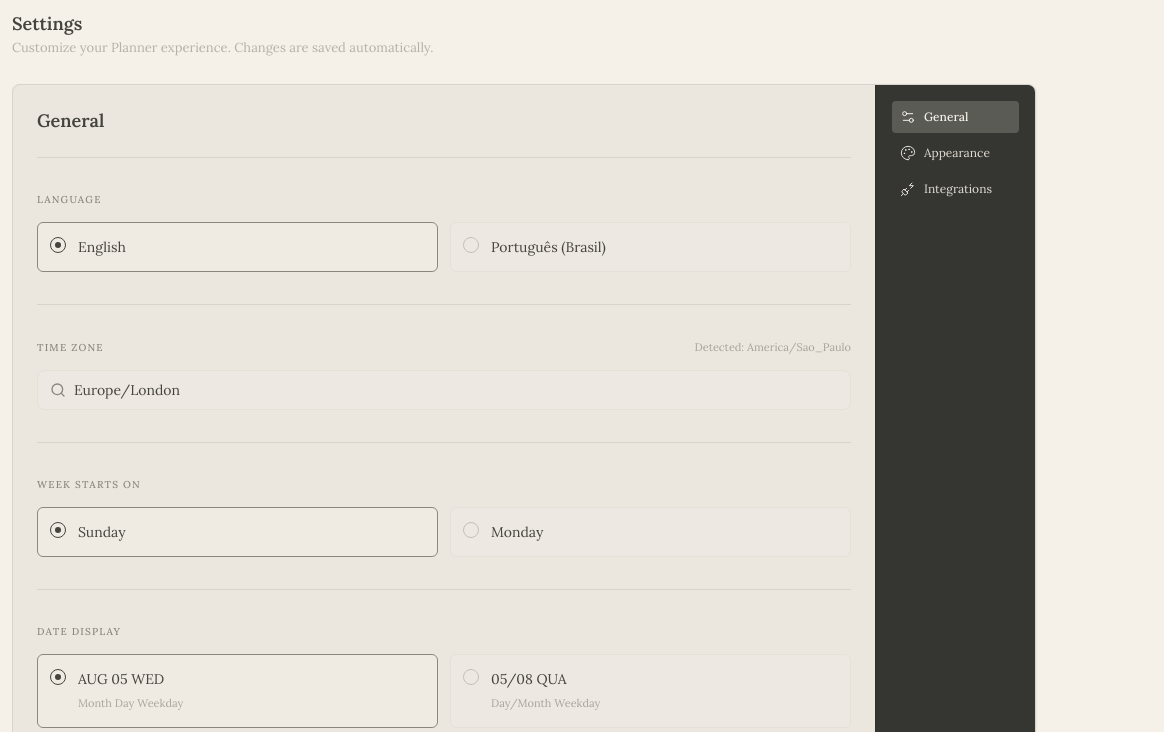
SettingsPage › shows a message when no time zones match the search, and reverts an unmatched draft on blur
This screenshot has width=1164, height=732.
Replace the text in the dropdown labelled "Time zone" with "Nowhere" at {"x": 456, "y": 390}, box top-left (74, 380), bottom-right (838, 400)
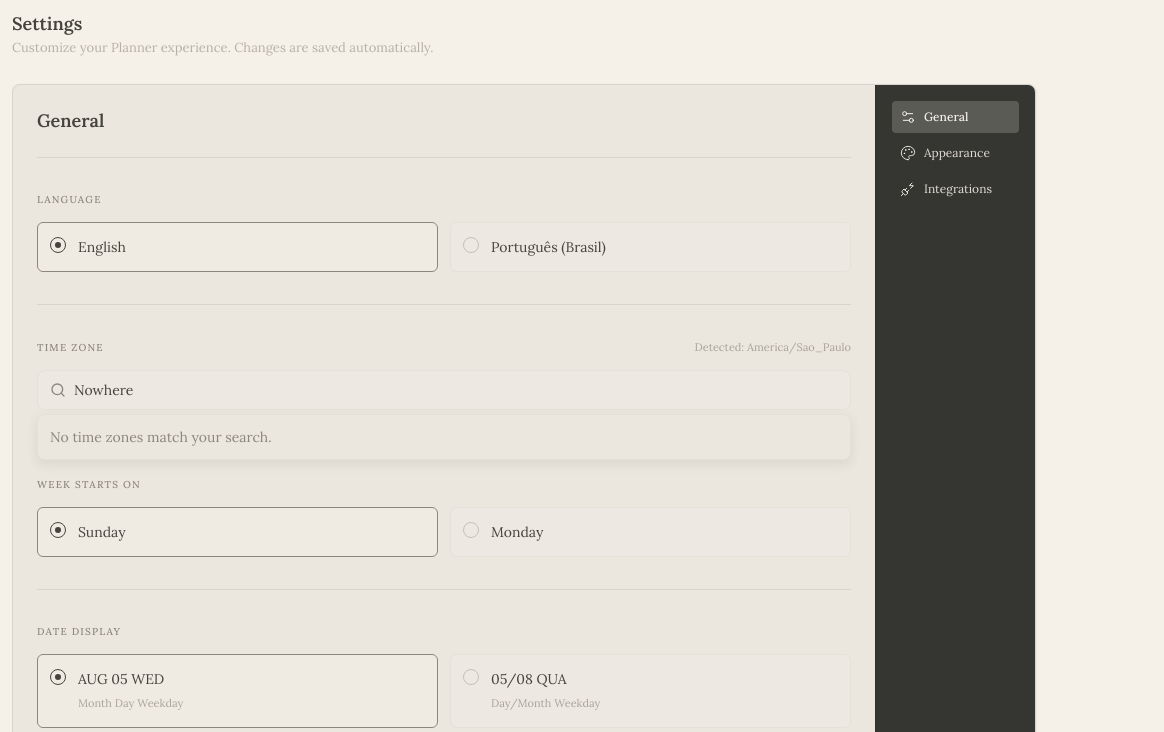
Expected: the text "No time zones match your search." is shown, top-left (50, 428), bottom-right (272, 446)
Leave the dropdown labelled "Time zone", box top-left (74, 380), bottom-right (838, 400)
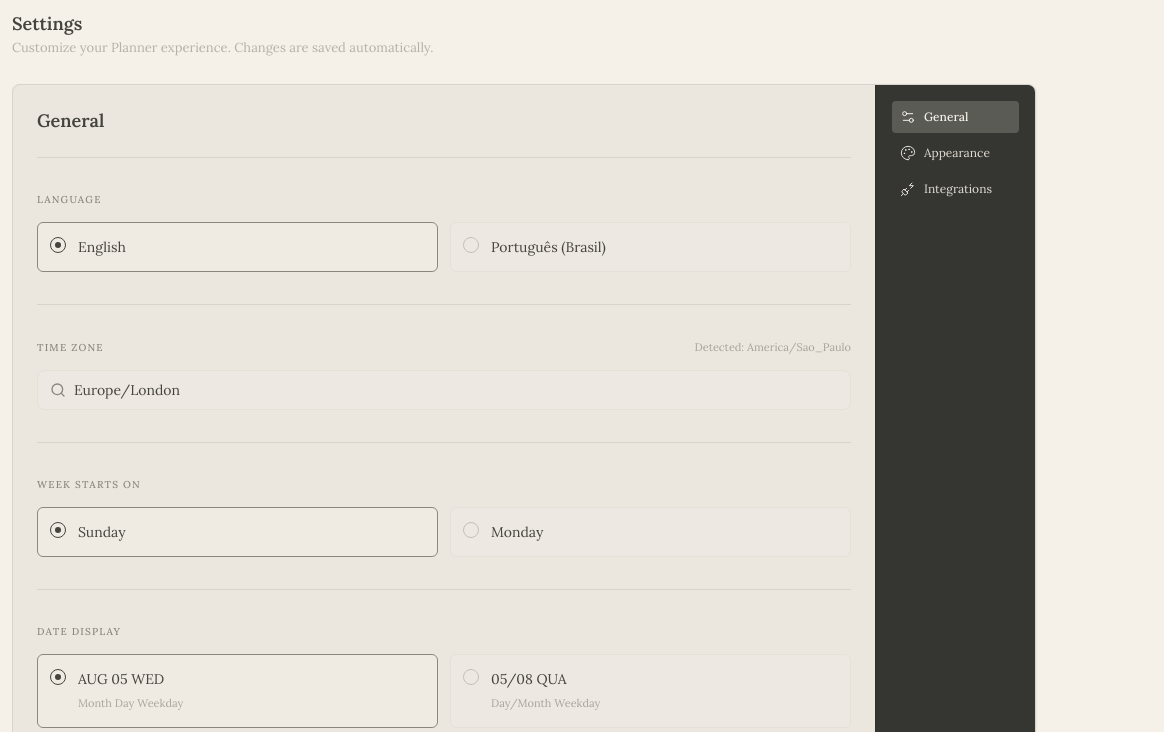
Expected: the dropdown labelled "Time zone" holds "Europe/London", top-left (74, 380), bottom-right (838, 400)
